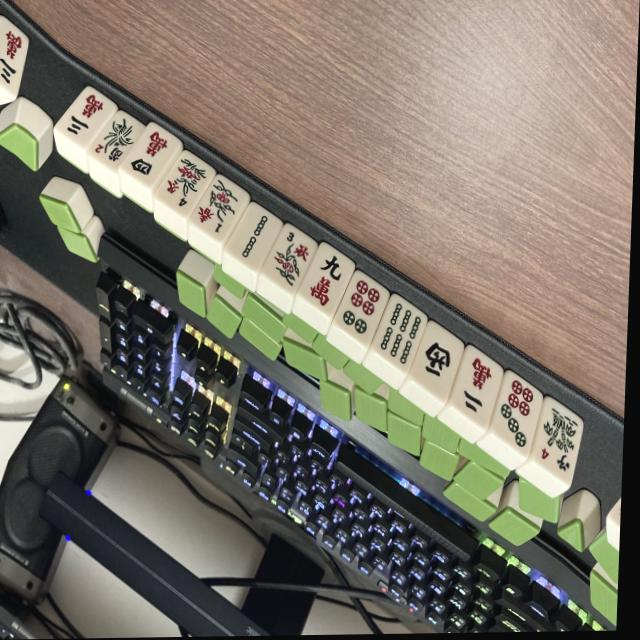f2: (89, 108, 147, 171)
f4: (524, 400, 594, 485)
ff1: (187, 175, 250, 244)
ff3: (261, 227, 321, 294)
ff4: (153, 148, 217, 217)
m2: (444, 346, 511, 427)
m3: (54, 85, 116, 150), (0, 22, 34, 95)
m4: (120, 122, 183, 191)
m9: (295, 244, 358, 314)
s2: (225, 204, 285, 271)
s6: (367, 296, 432, 373)
t6: (331, 271, 396, 345)
t7: (483, 371, 552, 457)
west: (408, 322, 471, 397)
